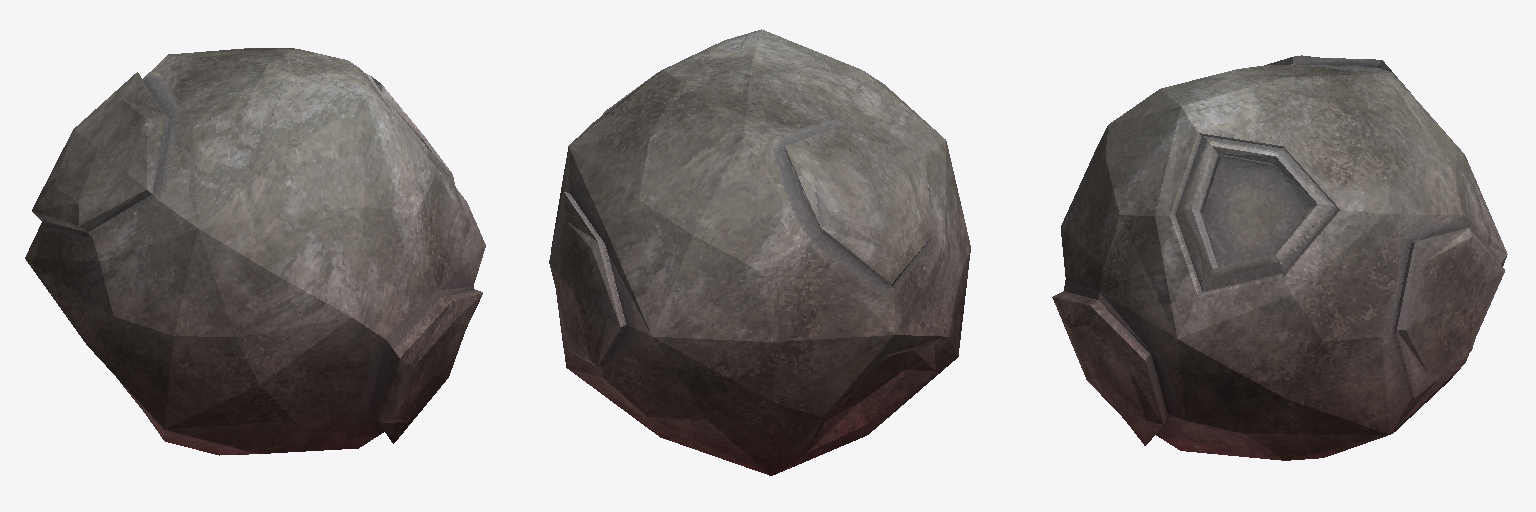
3 views of the same model, side by side, from view 1: azimuth 30°, elevation 25°; view 2: azimuth 150°, elevation 25°; view 3: azimuth 270°, elevation 25° (orthographic).
Visible parts, largest first — view 1: Projectile_Meteor_0002; view 2: Projectile_Meteor_0002; view 3: Projectile_Meteor_0002.
Boxes of the visible parts, box(x1,y1,x2,y2) form: Projectile_Meteor_0002: box(25, 48, 485, 455); Projectile_Meteor_0002: box(549, 29, 970, 475); Projectile_Meteor_0002: box(1052, 55, 1507, 460).
Size of the model in its own units: 49.42 by 49.03 by 54.51.
1 materials, 1 textured.